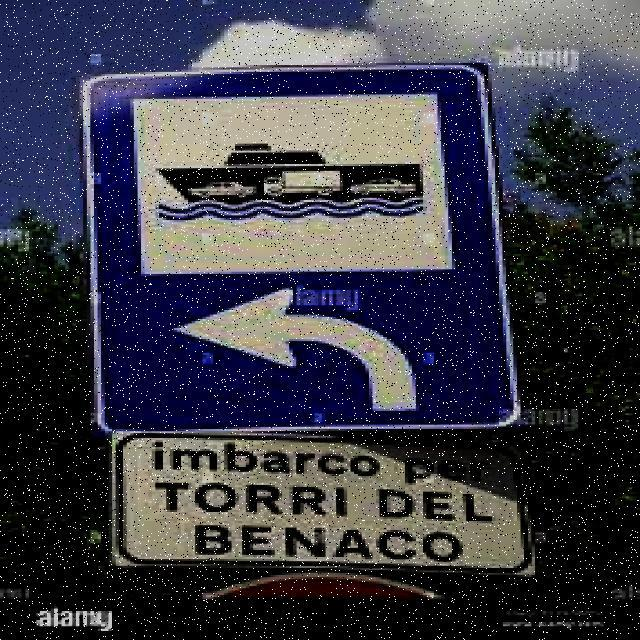Traffic sign: (74, 56, 544, 584)
